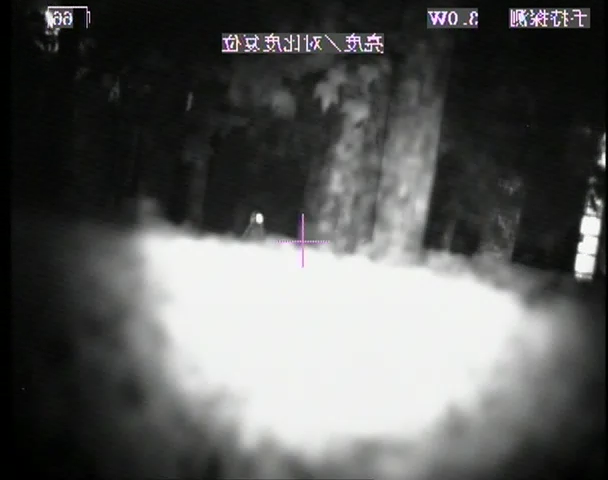my: (255, 213, 264, 224)
